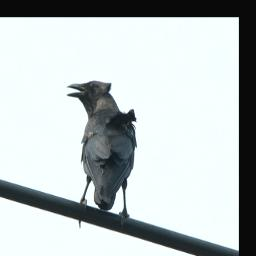Crow: (66, 76, 137, 231)
